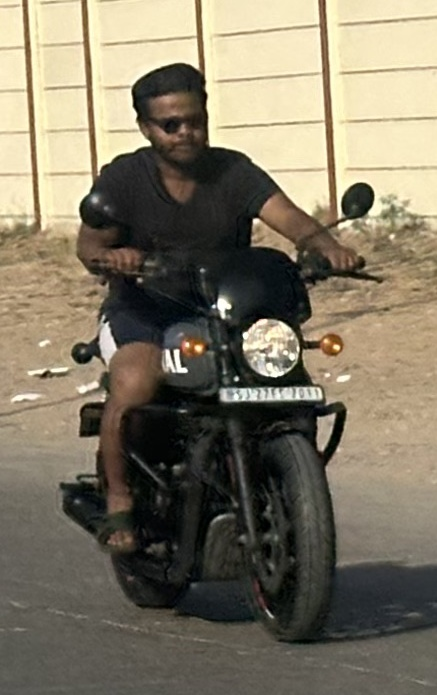BikeWithRider: (47, 47, 372, 644)
NoHelmet: (126, 56, 227, 175)
